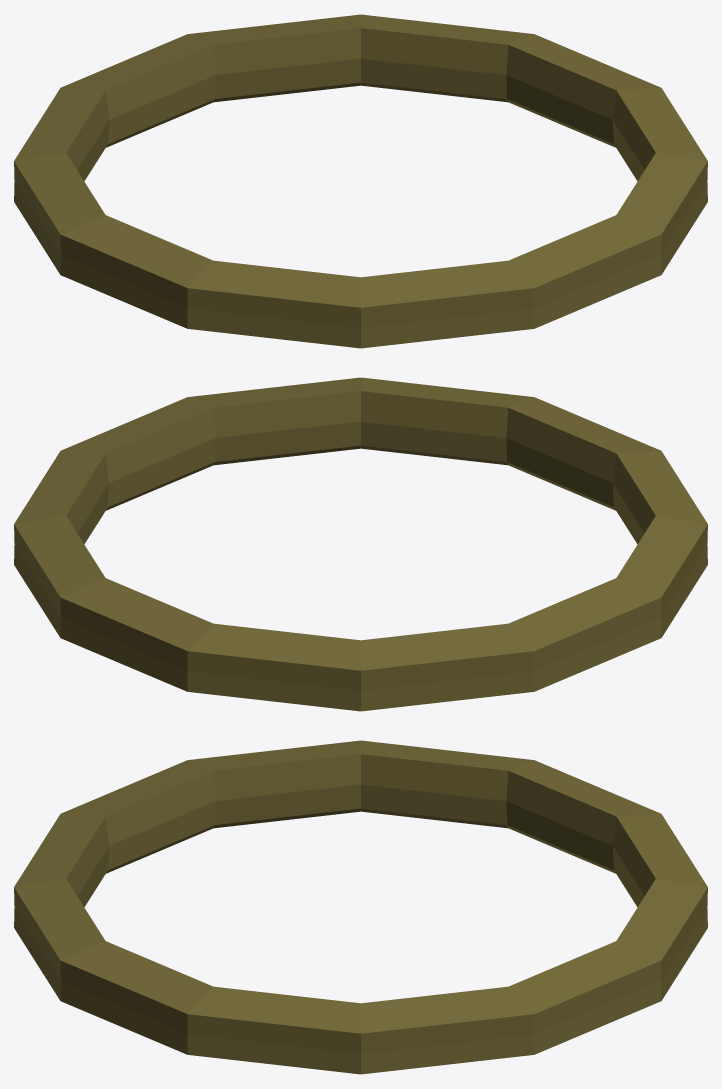
The model's file is 5secbelt.fbx.
3 views of the same model, one above another, from view 1: azimuth 30°, elevation 25°; view 2: azimuth 150°, elevation 25°; view 3: azimuth 270°, elevation 25° (orthographic).
Visible parts, largest first — view 1: Torus; view 2: Torus; view 3: Torus.
Boxes of the visible parts, box(x1,y1,x2,y2) form: Torus: box(14, 14, 707, 348); Torus: box(14, 377, 707, 711); Torus: box(14, 740, 707, 1074).
Size of the model in its own units: 378 by 34.58 by 378.
